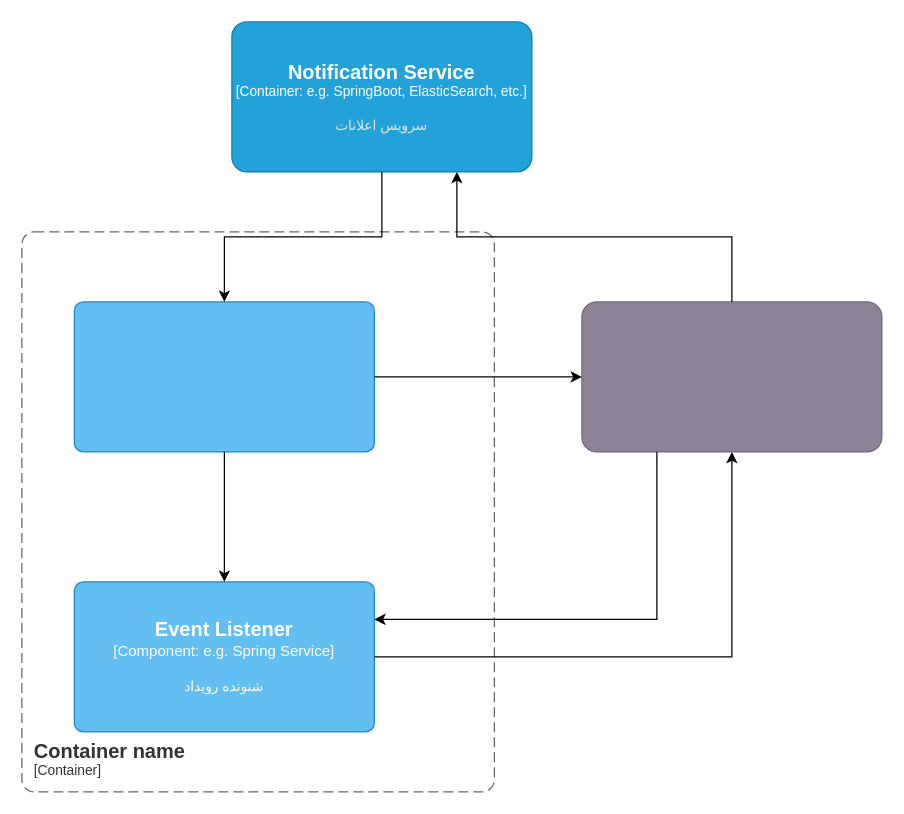
The diagram is 904 pixels wide and 814 high, and some of its shapes have lost their labels. Each missing label, with the centre of its shape:
"Notification Handler [Component: e.g. Spring Service] کنترل کننده اعلان" belongs at [223,376].
"SMS/Email Provider [Software System]" belongs at [731,376].
